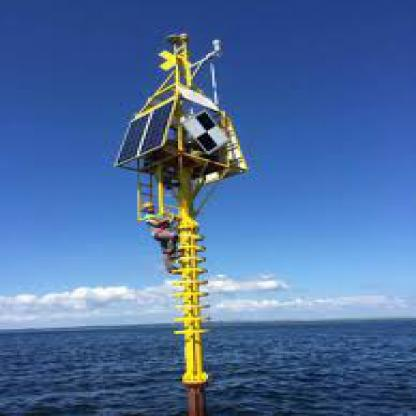buoy: (105, 22, 255, 414)
